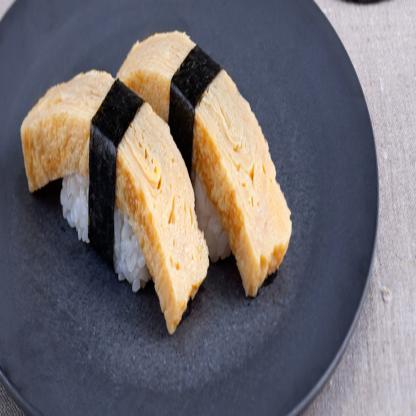tamago: (13, 68, 213, 345)
